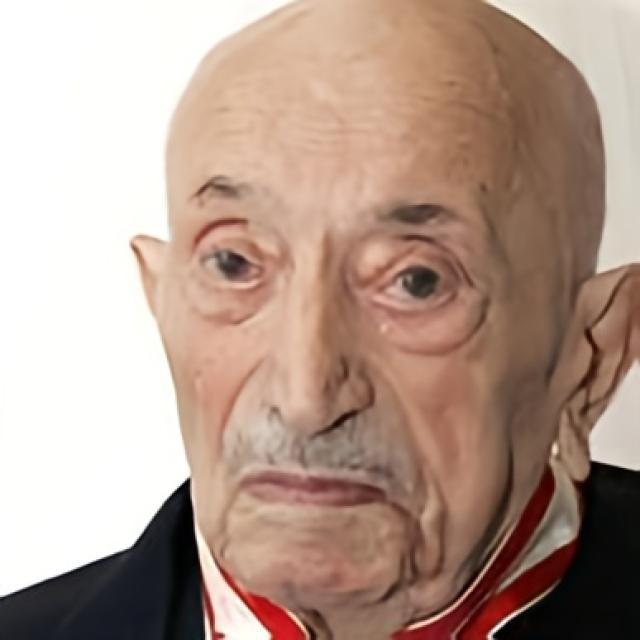surprise: (160, 0, 607, 620)
